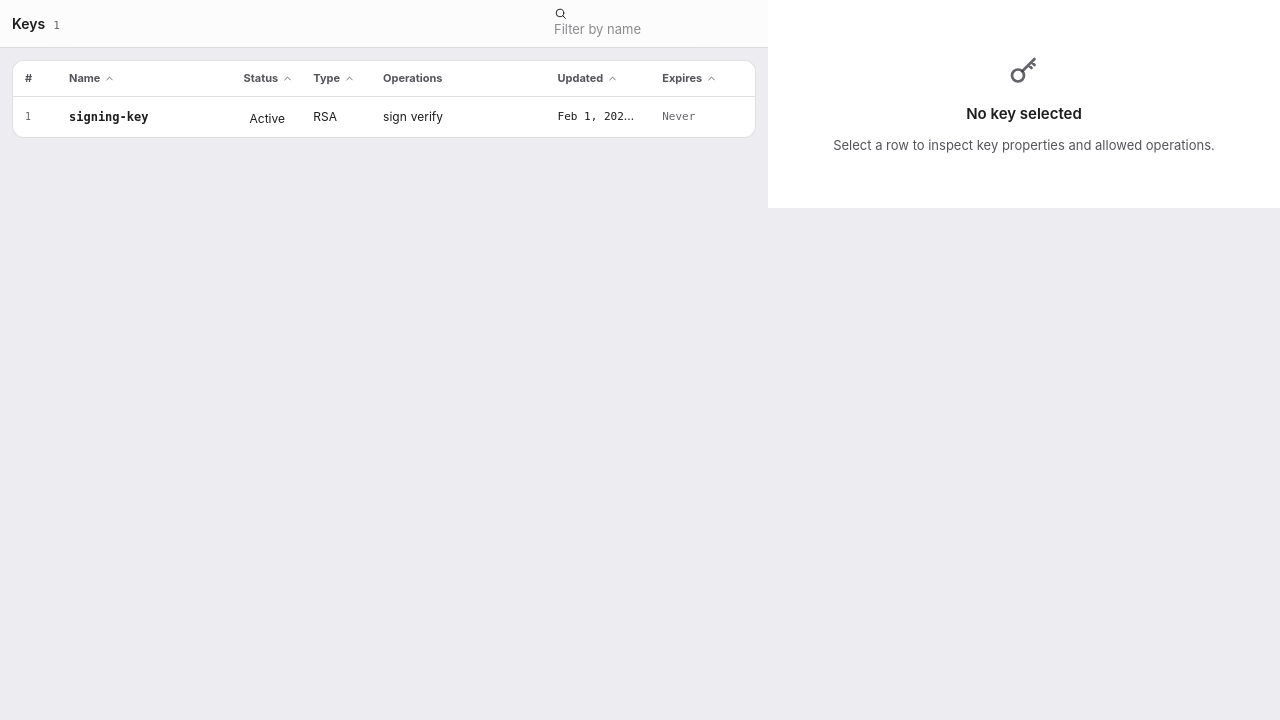
Test: KeysList › opens the detail pane for the clicked key
The image size is (1280, 720).
Click the text "signing-key" at (109, 117), box [69,110,148,124]
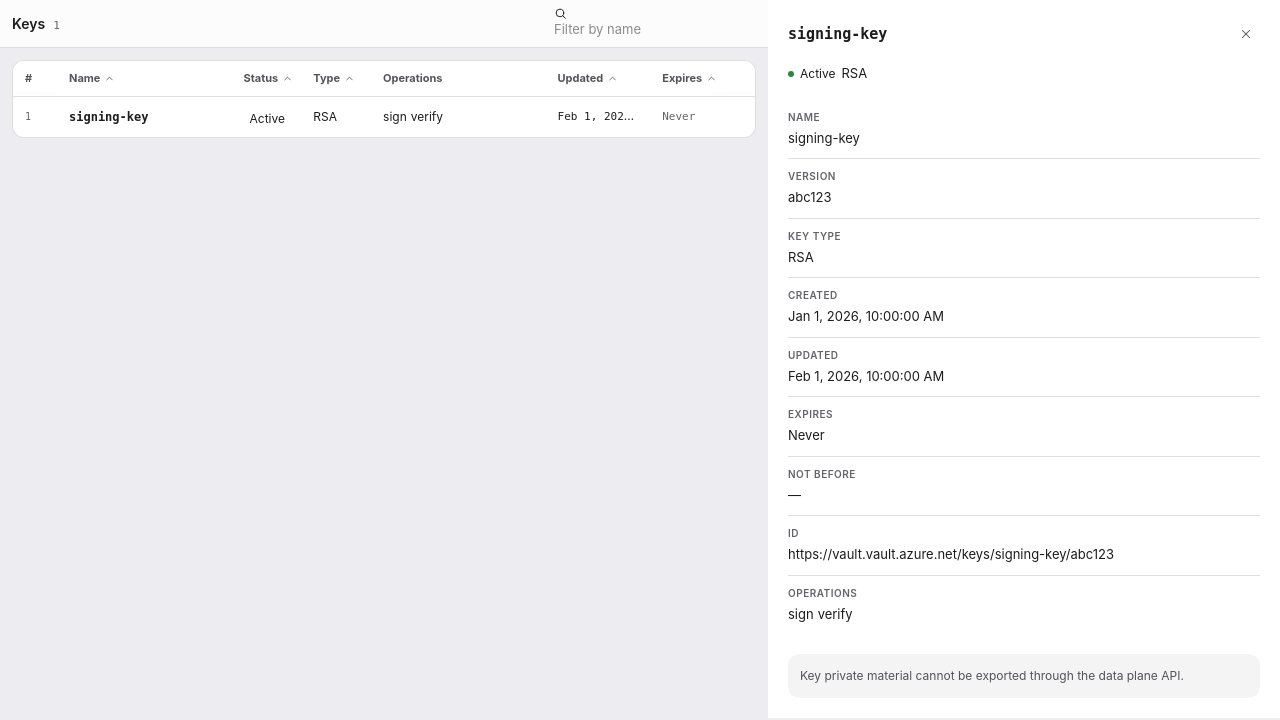
Check: the text "abc123" is shown, box [788,189,832,205]
